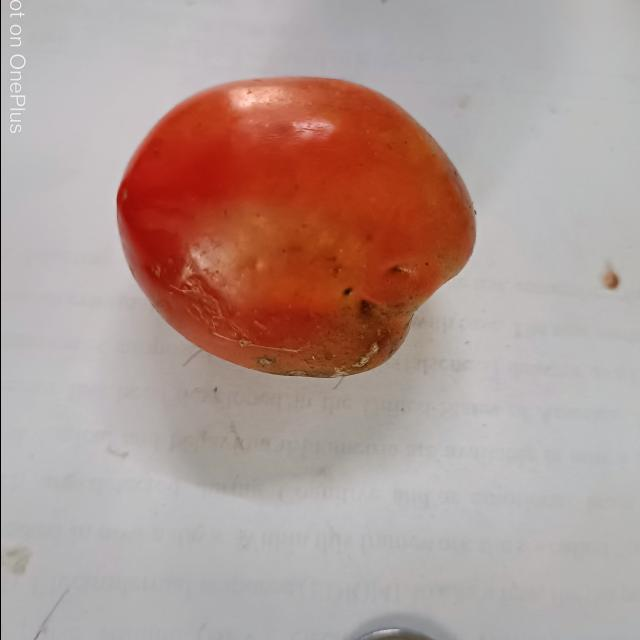Bacterial_Spot: (386, 257, 416, 285), (328, 281, 359, 301)
